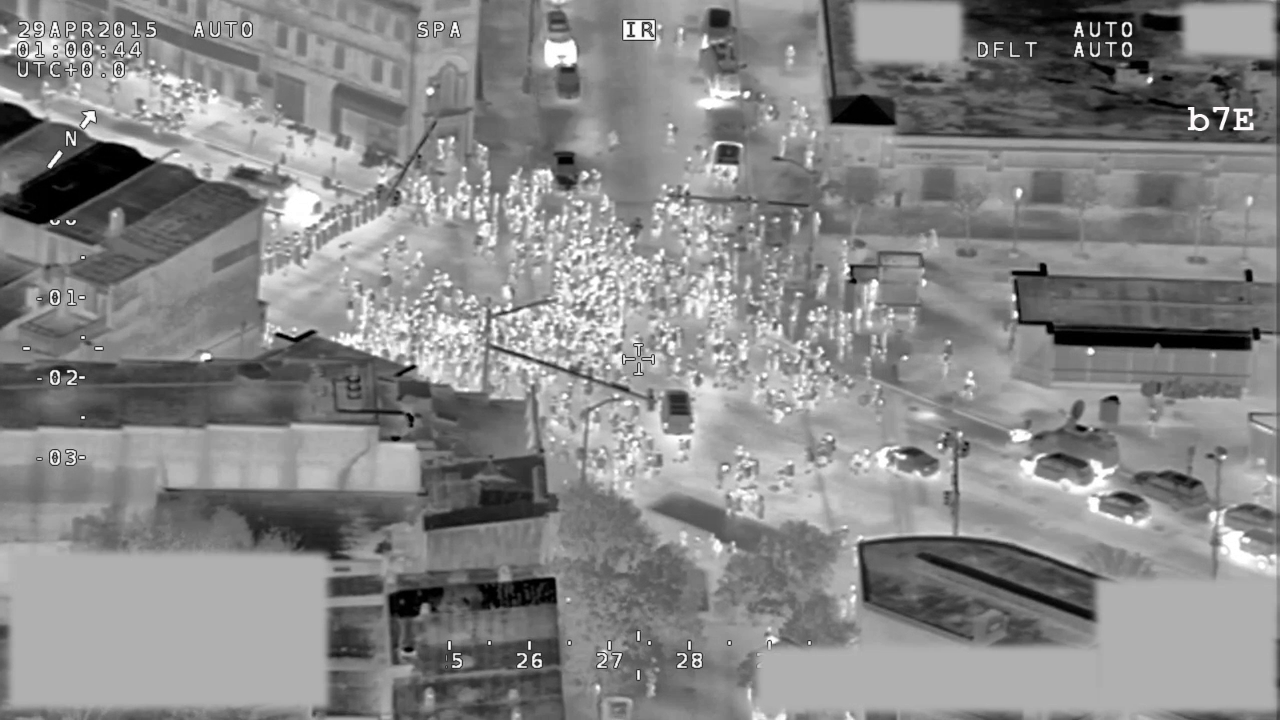vehicle: (1018, 397, 1124, 481), (224, 161, 330, 232), (1132, 462, 1212, 515), (1017, 447, 1096, 491), (1204, 494, 1280, 537), (1082, 484, 1153, 530), (692, 44, 744, 103), (1214, 529, 1280, 575), (872, 436, 941, 479), (541, 7, 580, 68), (708, 136, 744, 193), (659, 386, 696, 436), (696, 4, 736, 44), (548, 146, 582, 193), (553, 61, 583, 103)
